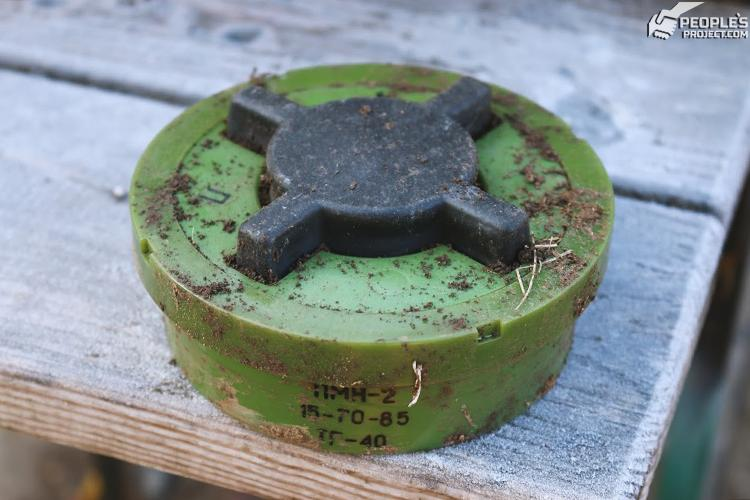pmn: (123, 56, 617, 460)
